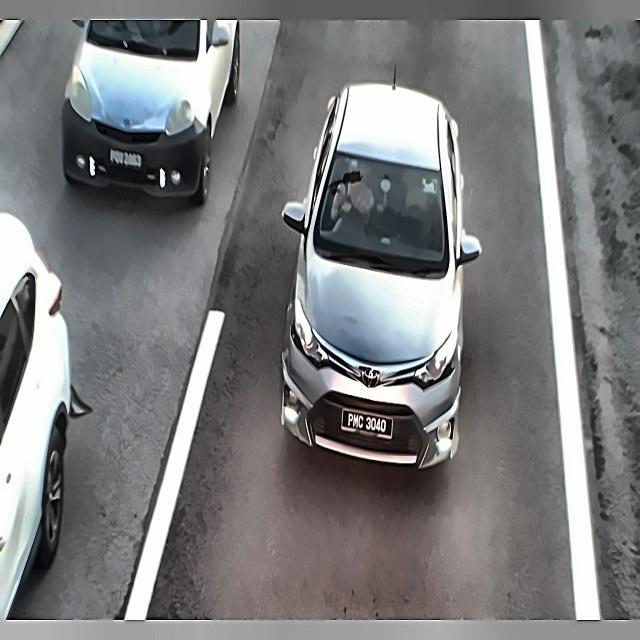car: (339, 400, 398, 446), (108, 142, 148, 174)
